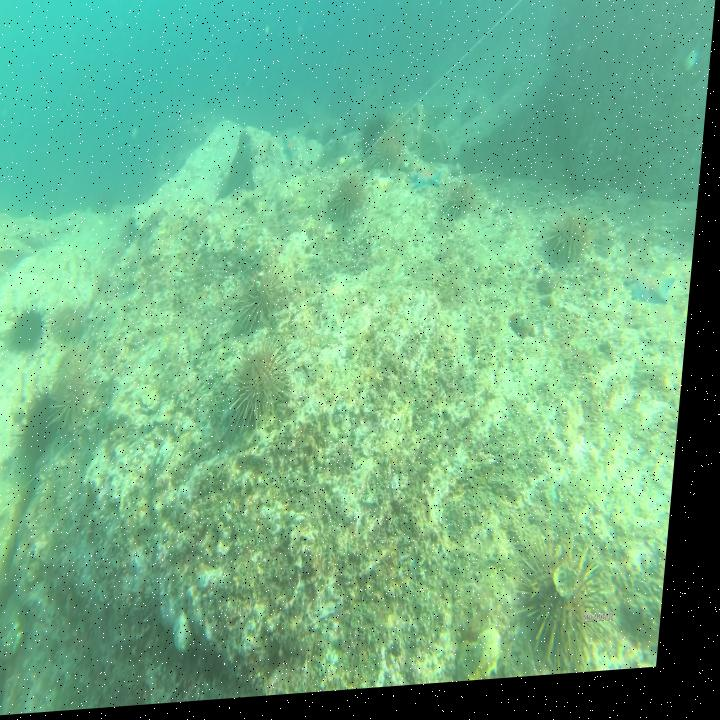echinus: (527, 536, 619, 682), (235, 338, 301, 435), (53, 358, 106, 435), (545, 212, 602, 279), (20, 393, 71, 463), (246, 267, 293, 333), (13, 301, 58, 352), (368, 127, 407, 185), (336, 176, 371, 232), (57, 304, 93, 352), (360, 115, 393, 167), (449, 184, 483, 226)
starfish: (632, 269, 681, 322), (412, 170, 447, 200), (282, 133, 303, 165)
